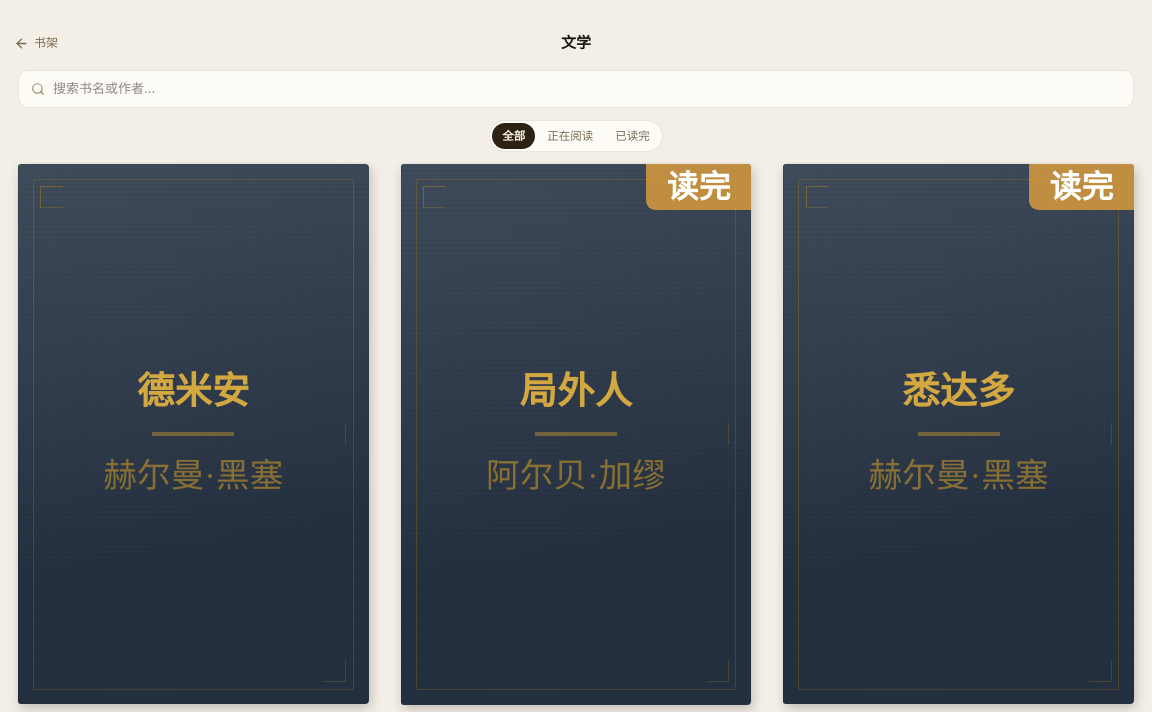
it: 分类书籍网格页 · 读完筛选 › 搜索没命中时仍然优先说搜索
The image size is (1152, 712).
Click the button "已读完": (633, 136) [605, 122, 660, 149]
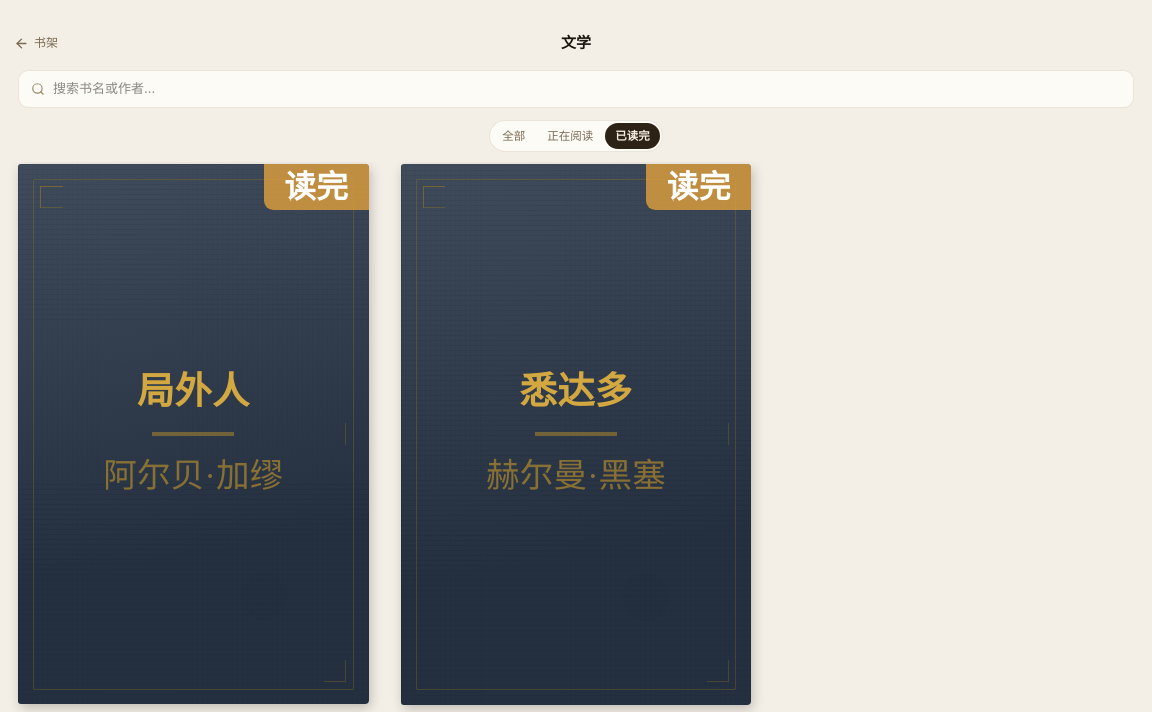
In the field with placeholder "搜索书名或作者…": (587, 89) [53, 79, 1121, 98], type "不存在的书"
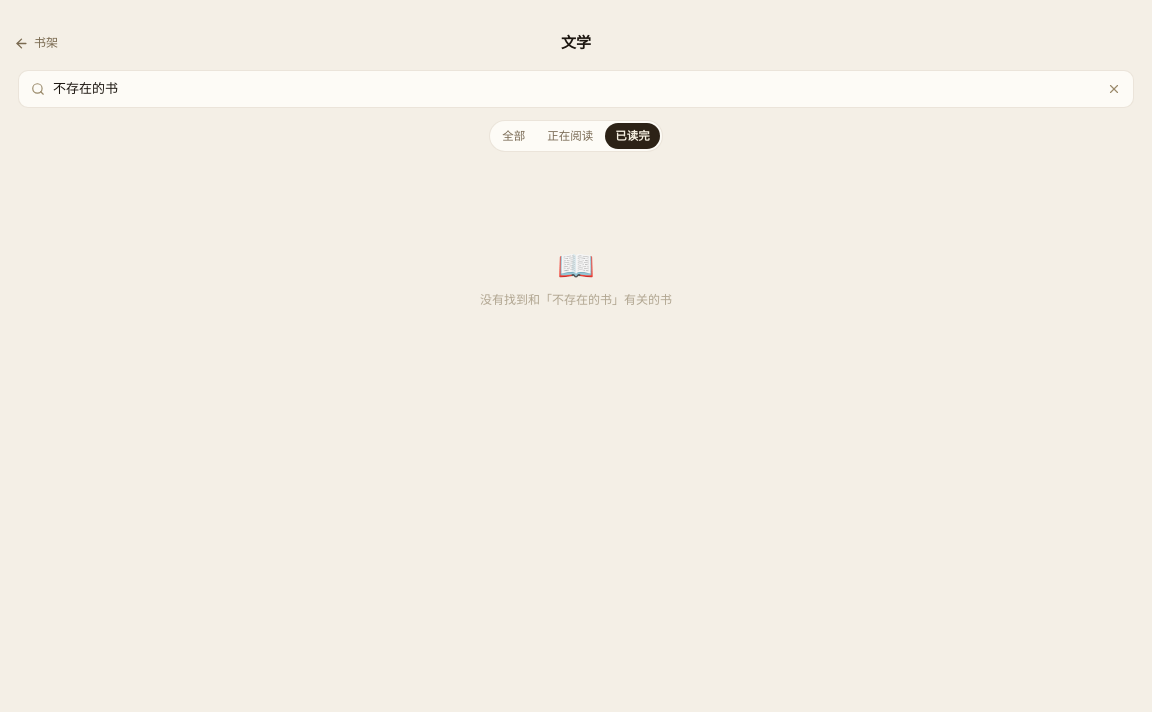
Expected: the text "没有找到" is shown, [480, 292, 552, 307]
